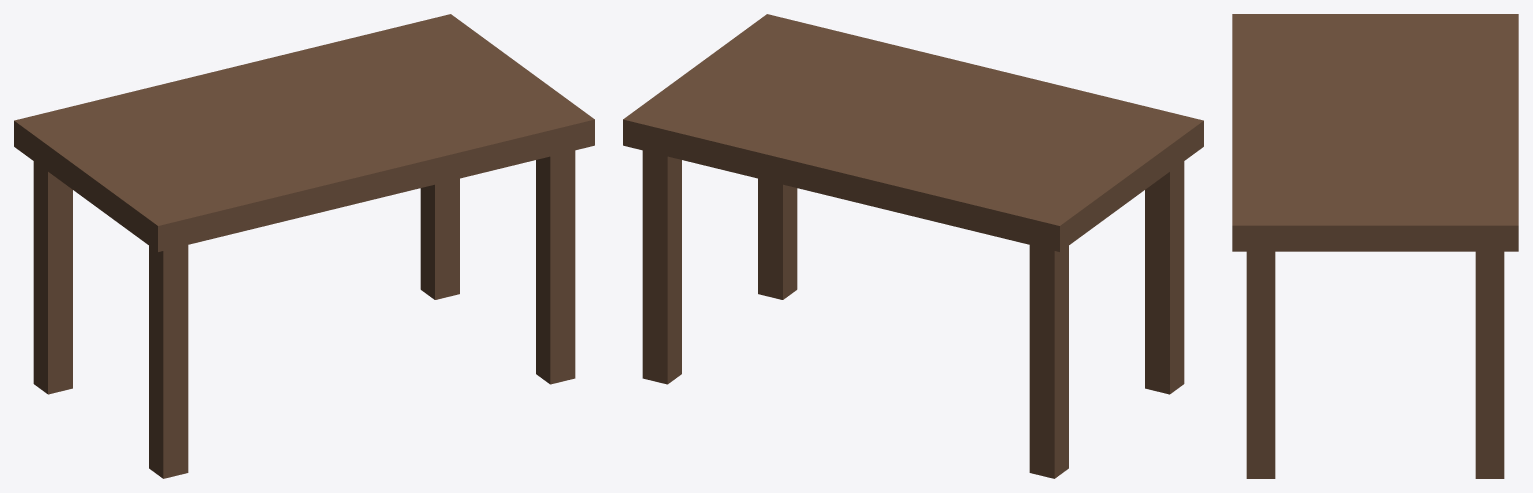
The model's file is gs_table.gltf.
3 renders of one model, left to right at view 1: azimuth 30°, elevation 25°; view 2: azimuth 150°, elevation 25°; view 3: azimuth 270°, elevation 25°, orthographic.
Visible parts, largest first — view 1: gs_table; view 2: gs_table; view 3: gs_table.
Part boxes in pixels (x1,y1,x2,y2): gs_table: (14,14,594,478); gs_table: (623,14,1203,478); gs_table: (1232,14,1518,478).
Bounding box in the file's own units: 1.4 × 0.8 × 0.8.
